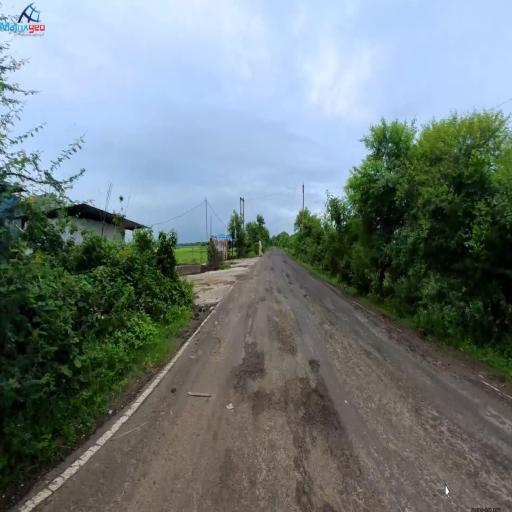pothole: (294, 360, 342, 440)
ravelling: (406, 383, 468, 488)
